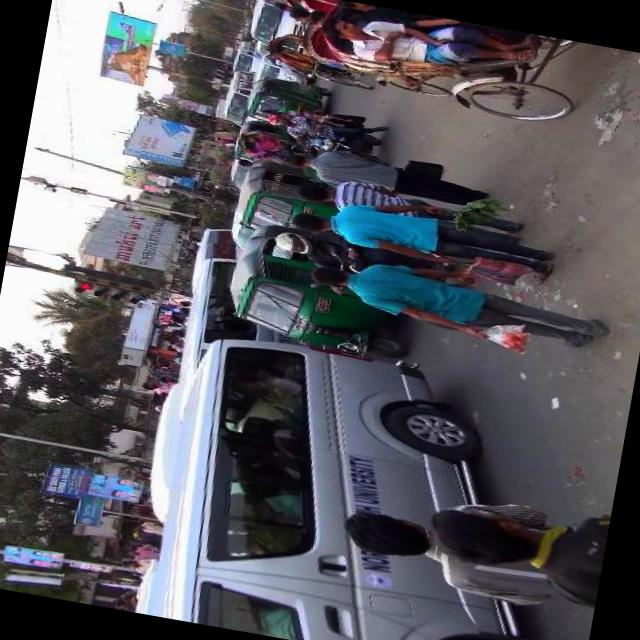motorcycle: (214, 218, 420, 362), (230, 155, 355, 245), (263, 99, 397, 168), (255, 28, 374, 92), (240, 70, 334, 133), (244, 70, 332, 131)
truck: (147, 322, 614, 640), (244, 0, 301, 51)
